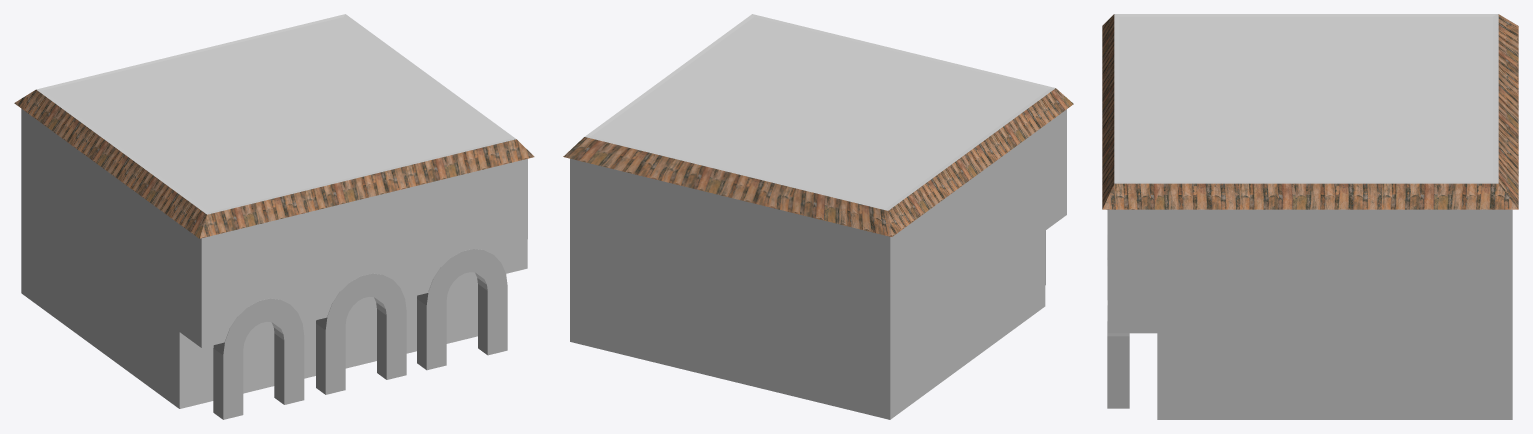
File: house3.fbx
3 views of the same model, side by side, from view 1: azimuth 30°, elevation 25°; view 2: azimuth 150°, elevation 25°; view 3: azimuth 270°, elevation 25° (orthographic). The views are drawn at different scales.
Visible parts, largest first — view 1: Cube, Cube.001, Cube.003, Cube.002; view 2: Cube; view 3: Cube, Cube.003.
Boxes of the visible parts, x1=… form: Cube: x1=14, y1=14, x2=534, y2=408; Cube.001: x1=213, y1=298, x2=304, y2=419; Cube.003: x1=417, y1=249, x2=507, y2=370; Cube.002: x1=316, y1=273, x2=406, y2=394; Cube: x1=563, y1=14, x2=1073, y2=419; Cube: x1=1102, y1=14, x2=1518, y2=419; Cube.003: x1=1107, y1=258, x2=1129, y2=408.
Bounding box in the file's own units: 824 × 484 × 789.
